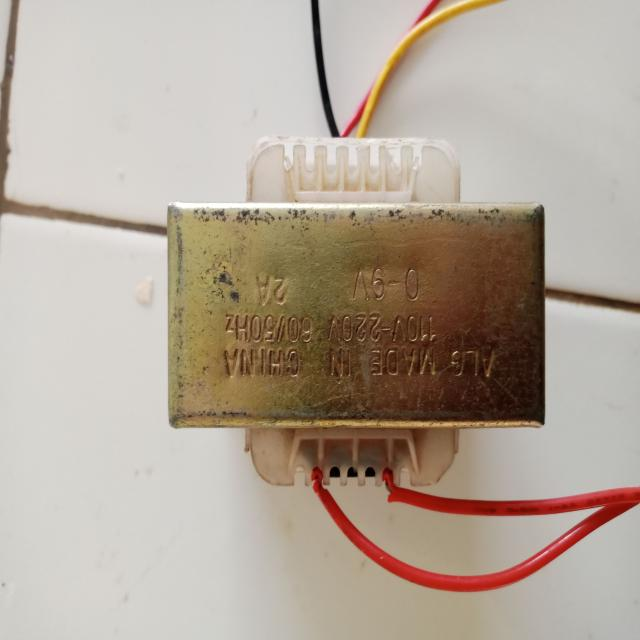Stepdown Transformer: (152, 119, 582, 518)
